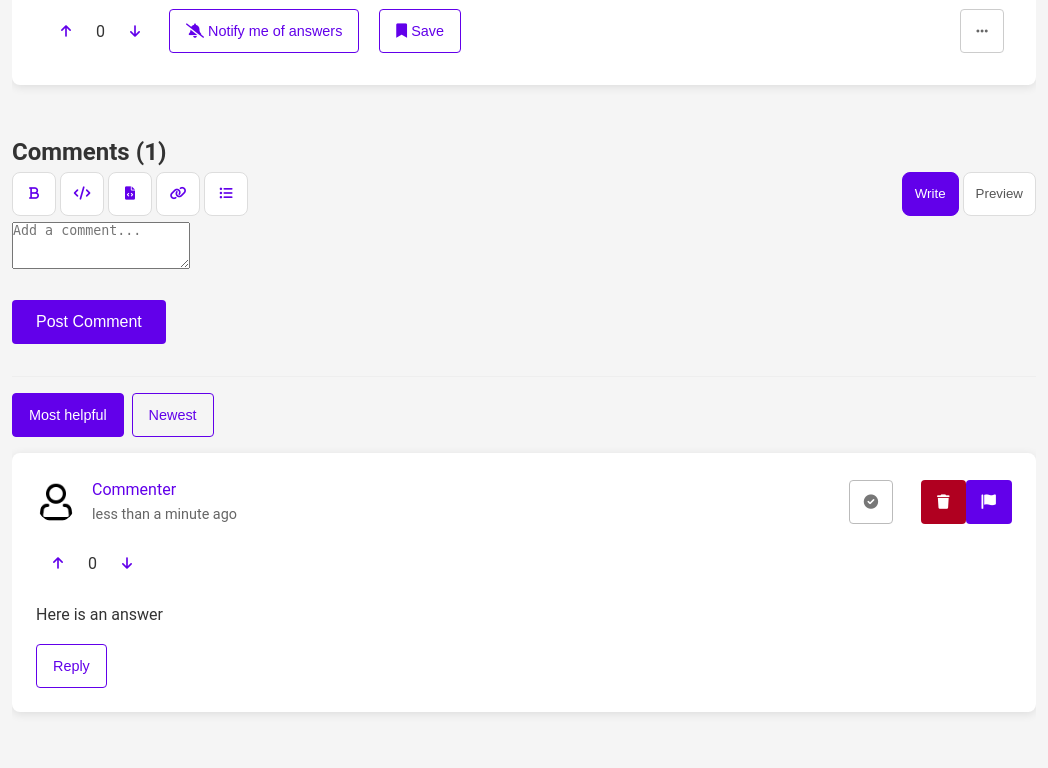
PostDetail accepted answers › the two isSolved paths cannot disagree: solving is driven only by accepting/unaccepting an answer
(page scrolled)
Click the button named "accept this answer" at (871, 502), box x1=849 y1=480 x2=893 y2=524
(page scrolled)
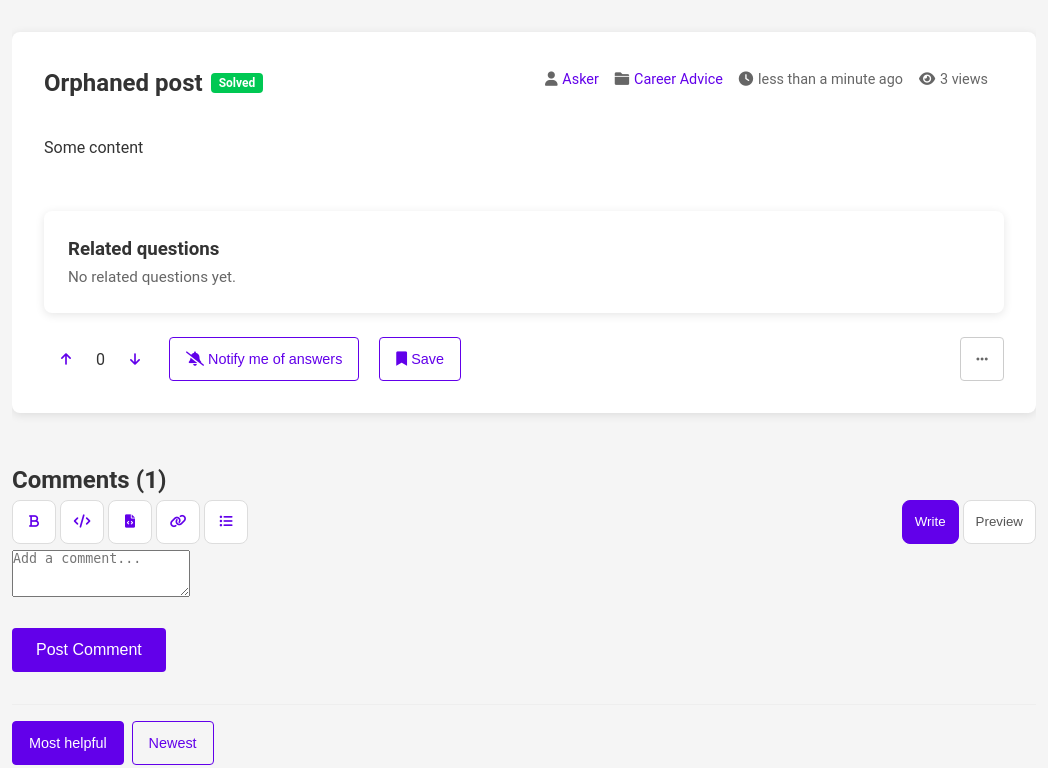
Result: the text "Solved" is shown at x1=211 y1=73 x2=263 y2=93
